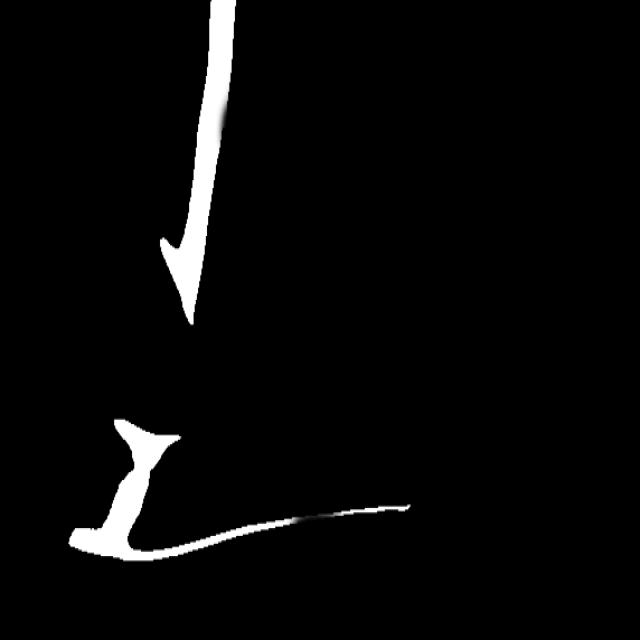inf: (289, 506, 341, 532)
